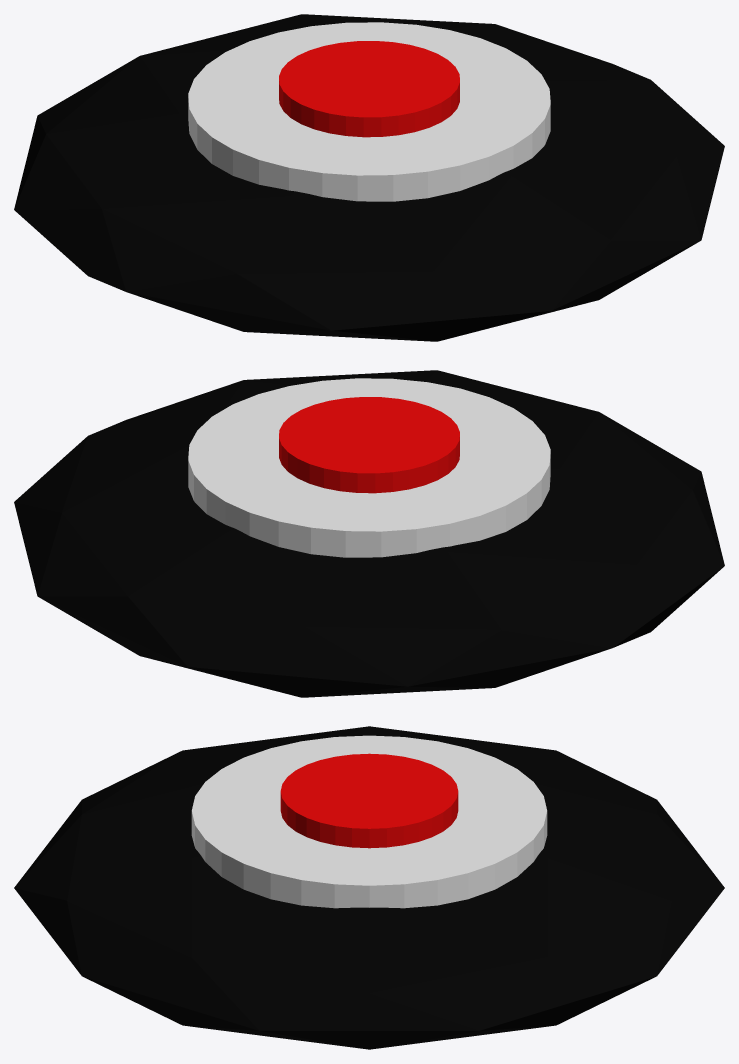
The model's file is enemy-wipe.glb.
3 renders of one model, top to bottom at view 1: azimuth 30°, elevation 25°; view 2: azimuth 150°, elevation 25°; view 3: azimuth 270°, elevation 25°, orthographic. The views are drawn at different scales.
Visible parts, largest first — view 1: enemy-wipe; view 2: enemy-wipe; view 3: enemy-wipe.
Boxes of the visible parts, left/top/right/bottom form: enemy-wipe: left=14, top=14, right=724, bottom=341; enemy-wipe: left=14, top=370, right=724, bottom=697; enemy-wipe: left=14, top=726, right=724, bottom=1049.
Bounding box in the file's own units: 1.9 × 0.5 × 2.
